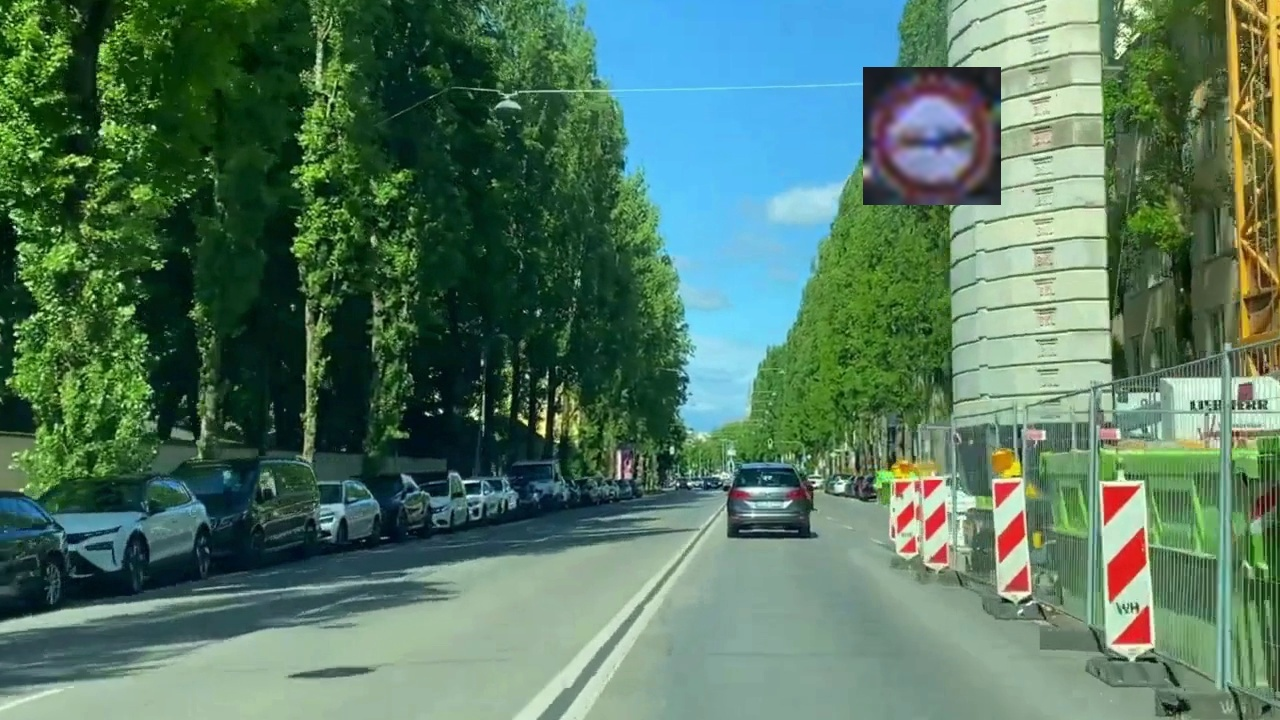No passing: (863, 67, 1001, 205)
